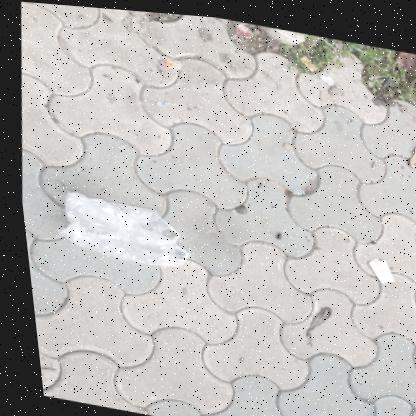Paper: (362, 252, 388, 277), (158, 53, 181, 67), (318, 68, 332, 80)
Plastic: (51, 190, 185, 264), (299, 50, 317, 67), (235, 19, 253, 34)
Waste: (153, 95, 174, 104)
